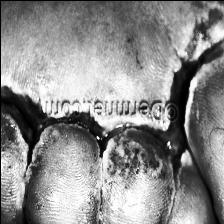Toxin: (94, 120, 166, 183), (0, 80, 44, 156), (168, 54, 198, 127)
